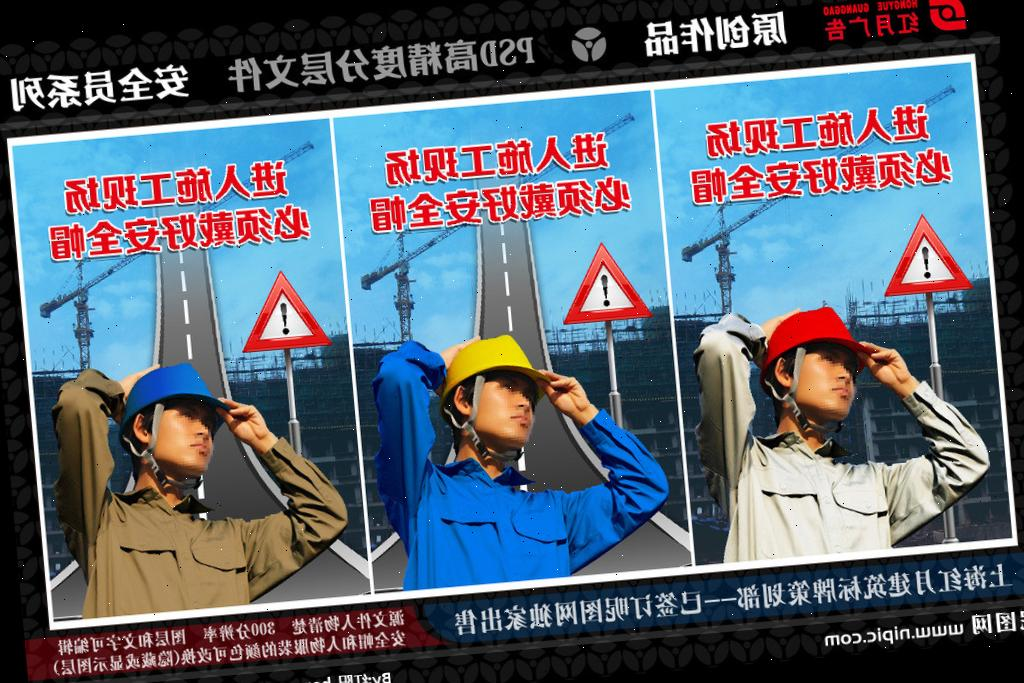helmet: (424, 326, 550, 410), (749, 298, 876, 381), (106, 354, 234, 426)
wear: (70, 478, 256, 616), (716, 429, 896, 566), (391, 459, 573, 591)
